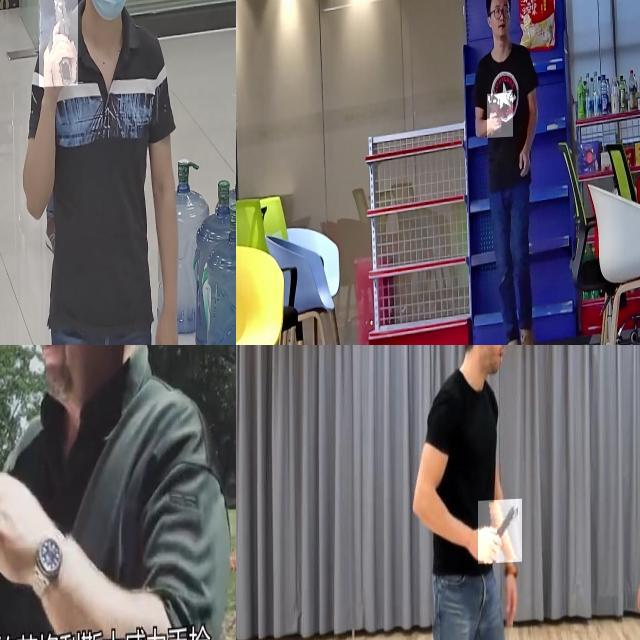-: (478, 502, 522, 567)
gun-knife-thesis - v11 Yolov5 augmented: (0, 345, 55, 524), (38, 0, 78, 90), (487, 98, 513, 142)
